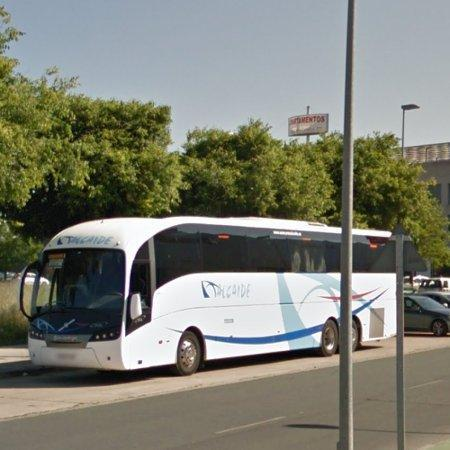buses: (353, 231, 398, 345)
